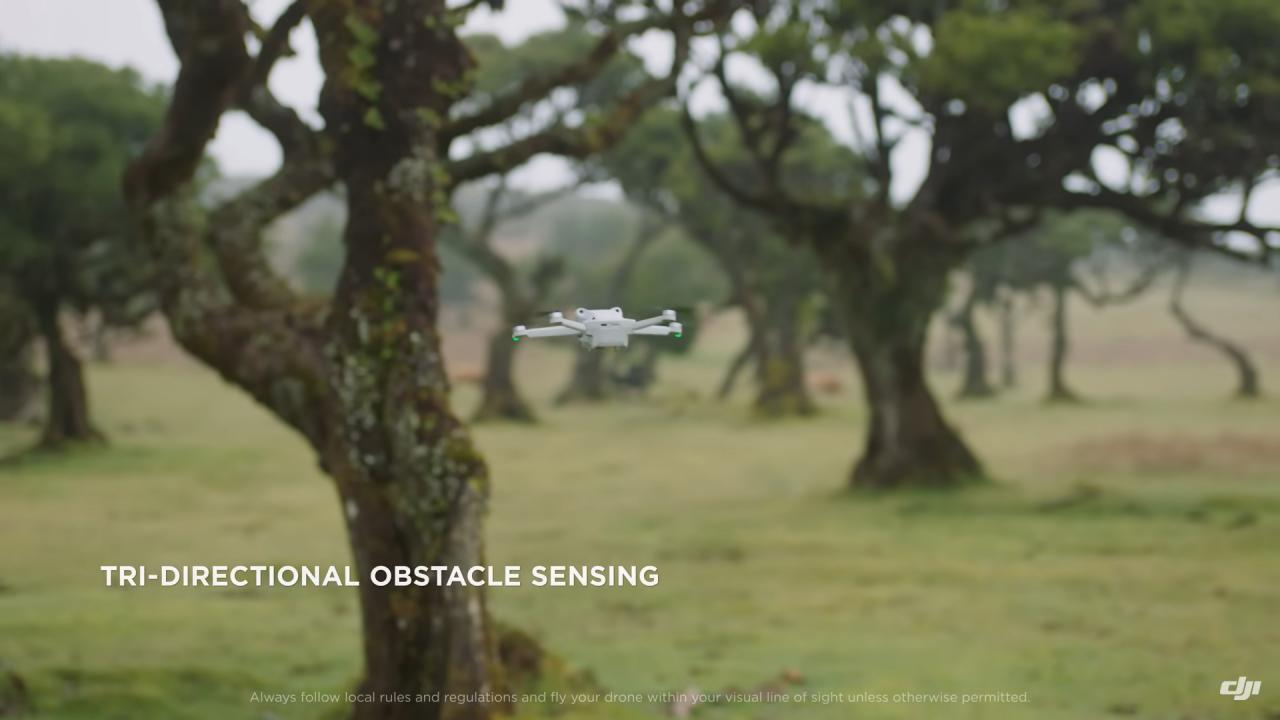Drone: (490, 292, 702, 362)
